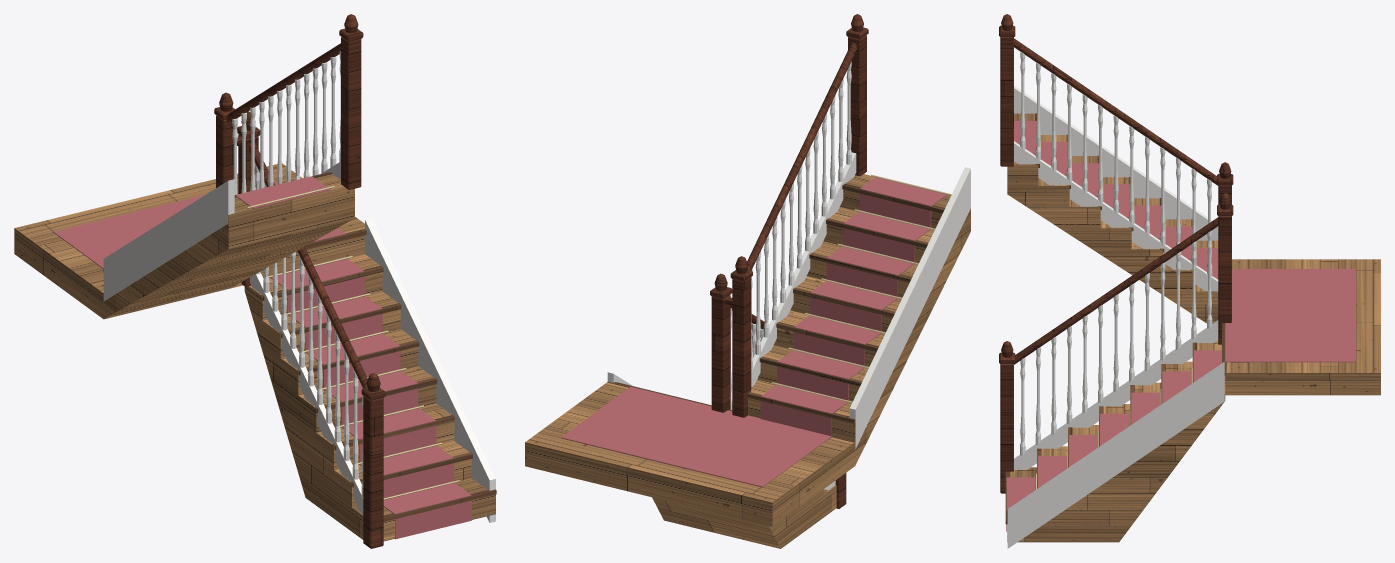
File: stair_1_r.glb
3 renders of one model, left to right at view 1: azimuth 30°, elevation 25°; view 2: azimuth 150°, elevation 25°; view 3: azimuth 270°, elevation 25°, orthographic. The views are drawn at different scales.
Visible parts, largest first — view 1: stair_1_r_wood, stair_1_r_trim, stair_1_r_carpet_r, stair_1_r_mahog, stair_1_r_dkwood, stair_1_r_brass; view 2: stair_1_r_carpet_r, stair_1_r_wood, stair_1_r_trim, stair_1_r_mahog, stair_1_r_dkwood, stair_1_r_brass; view 3: stair_1_r_trim, stair_1_r_wood, stair_1_r_carpet_r, stair_1_r_mahog, stair_1_r_dkwood.
Part boxes in pixels (bbox=[...]): stair_1_r_wood: bbox=[14, 163, 495, 541]; stair_1_r_trim: bbox=[103, 51, 495, 522]; stair_1_r_carpet_r: bbox=[53, 176, 471, 539]; stair_1_r_mahog: bbox=[214, 14, 385, 548]; stair_1_r_dkwood: bbox=[103, 172, 496, 521]; stair_1_r_brass: bbox=[247, 186, 459, 499]; stair_1_r_carpet_r: bbox=[561, 177, 947, 487]; stair_1_r_wood: bbox=[525, 174, 970, 548]; stair_1_r_trim: bbox=[607, 61, 970, 490]; stair_1_r_mahog: bbox=[710, 14, 868, 508]; stair_1_r_dkwood: bbox=[607, 183, 945, 442]; stair_1_r_brass: bbox=[772, 174, 951, 402]; stair_1_r_trim: bbox=[1007, 52, 1224, 548]; stair_1_r_wood: bbox=[1007, 113, 1380, 542]; stair_1_r_carpet_r: bbox=[1006, 121, 1355, 531]; stair_1_r_mahog: bbox=[999, 14, 1233, 493]; stair_1_r_dkwood: bbox=[1005, 113, 1226, 524].
Size of the model in its own units: 2.16 by 4.19 by 3.06.
6 materials, 3 textured.
